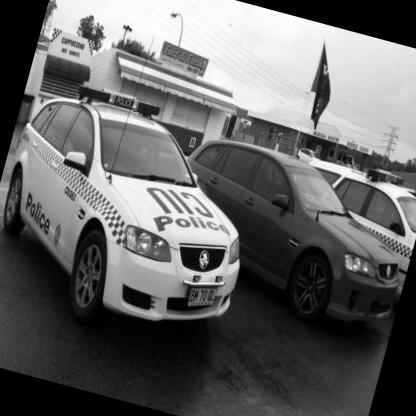car: (1, 73, 273, 367), (163, 114, 416, 354)
